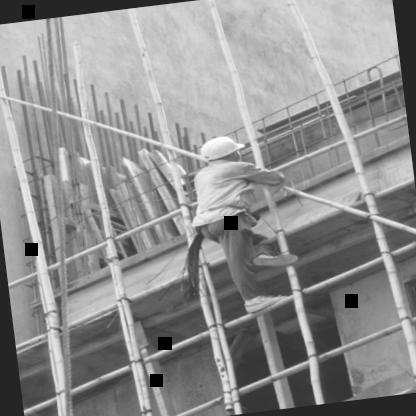helmet: (198, 132, 248, 172)
